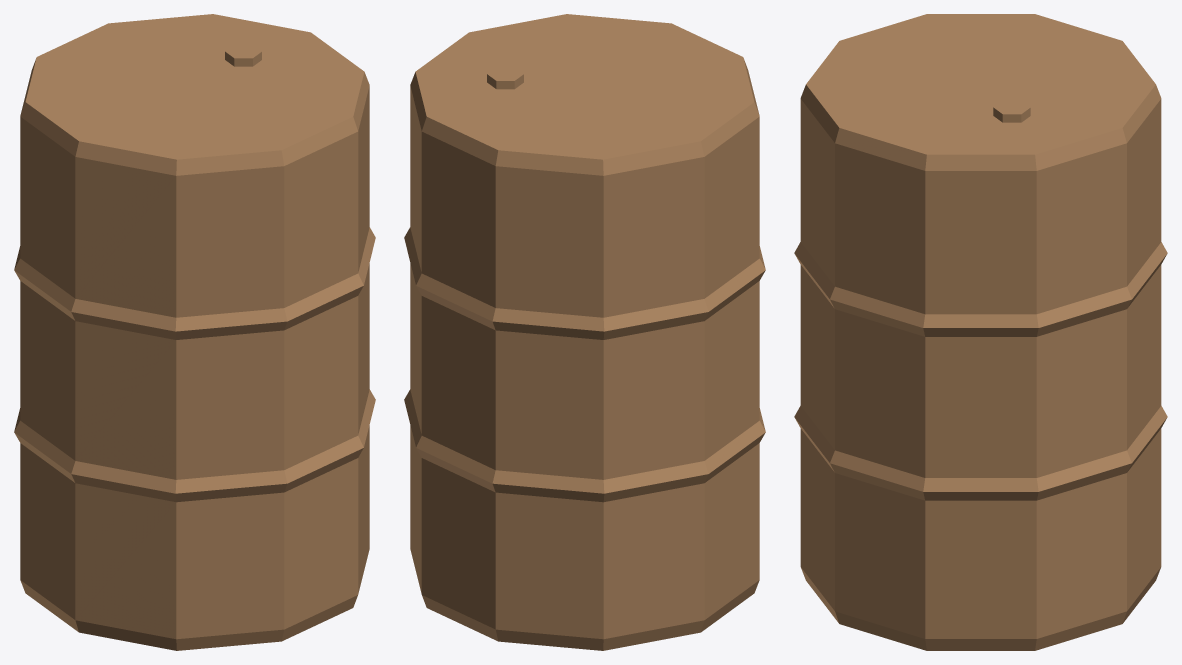
The model's file is barrel.glb.
3 renders of one model, left to right at view 1: azimuth 30°, elevation 25°; view 2: azimuth 150°, elevation 25°; view 3: azimuth 270°, elevation 25°, orthographic.
Parts seen in each view (by area): view 1: drum; view 2: drum; view 3: drum.
Part boxes in pixels (box(x1,y1,x2,y2)): drum: box(14, 14, 375, 650); drum: box(404, 14, 765, 650); drum: box(794, 14, 1167, 650).
Bounding box in the file's own units: 0.5709 × 0.895 × 0.6003.
